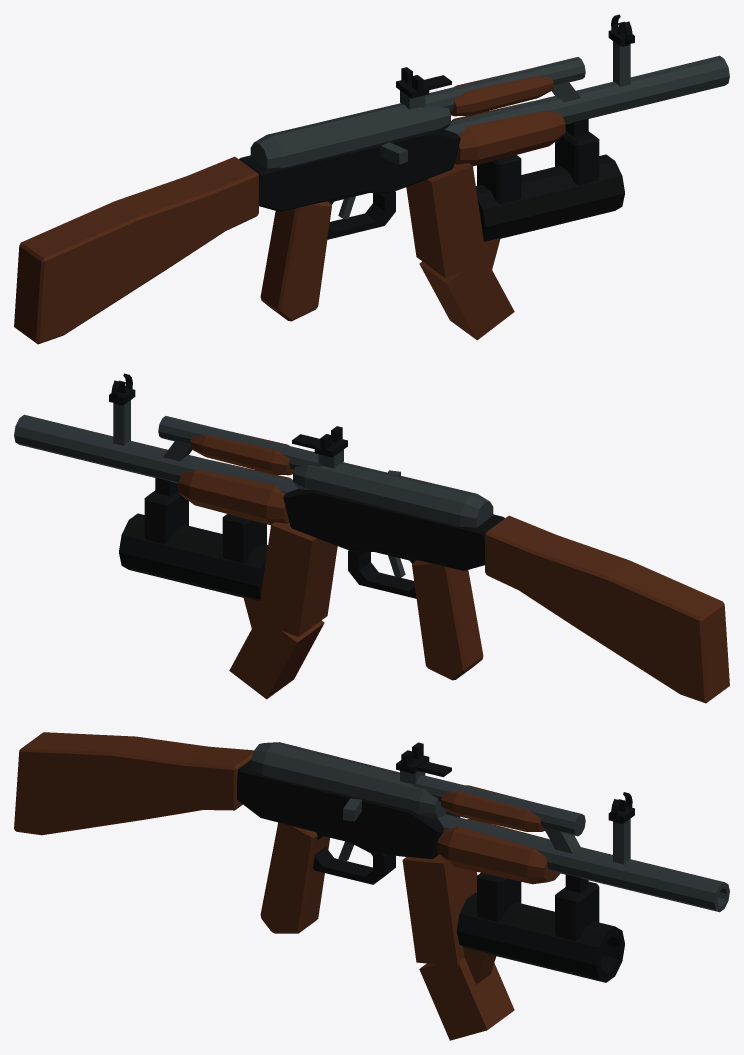
The model's file is CE_Gun_AK74GL.obj.
3 views of the same model, one above another, from view 1: azimuth 30°, elevation 25°; view 2: azimuth 150°, elevation 25°; view 3: azimuth 330°, elevation 25° (orthographic).
Visible parts, largest first — view 1: AK74_curved_wooden_shoulder_stock, AK_stepped_lower_receiver, GP25_launcher, Magazine_upper, Rounded_receiver_dust_cover, Hollow_barrel, AK_curved_palm_grip, Lower_shaped_handguard, Curved_magazine_heel, Upper_gas_handguard, Gas_tube, GP25_saddle.001 (+3 smaller); view 2: AK74_curved_wooden_shoulder_stock, AK_stepped_lower_receiver, GP25_launcher, Magazine_upper, Rounded_receiver_dust_cover, Hollow_barrel, AK_curved_palm_grip, Lower_shaped_handguard, Curved_magazine_heel, Upper_gas_handguard, Gas_tube, GP25_saddle.001 (+3 smaller); view 3: AK74_curved_wooden_shoulder_stock, AK_stepped_lower_receiver, GP25_launcher, Hollow_barrel, Rounded_receiver_dust_cover, Magazine_upper, AK_curved_palm_grip, Curved_magazine_heel, Lower_shaped_handguard, Gas_tube, Upper_gas_handguard, GP25_saddle.001 (+5 smaller).
Boxes of the visible parts, x1,y1,x2,y2 form: AK74_curved_wooden_shoulder_stock: [14, 156, 258, 344]; AK_stepped_lower_receiver: [239, 129, 460, 211]; GP25_launcher: [476, 154, 624, 241]; Magazine_upper: [406, 163, 486, 277]; Rounded_receiver_dust_cover: [250, 103, 450, 168]; Hollow_barrel: [444, 55, 729, 135]; AK_curved_palm_grip: [260, 201, 331, 321]; Lower_shaped_handguard: [451, 101, 565, 166]; Curved_magazine_heel: [419, 260, 514, 340]; Upper_gas_handguard: [450, 71, 553, 116]; Gas_tube: [422, 57, 585, 111]; GP25_saddle.001: [555, 131, 599, 185]; AK74_curved_wooden_shoulder_stock: [485, 515, 729, 703]; AK_stepped_lower_receiver: [283, 488, 504, 570]; GP25_launcher: [119, 513, 267, 600]; Magazine_upper: [257, 522, 337, 636]; Rounded_receiver_dust_cover: [293, 462, 493, 527]; Hollow_barrel: [14, 414, 299, 494]; AK_curved_palm_grip: [412, 560, 483, 680]; Lower_shaped_handguard: [178, 460, 292, 525]; Curved_magazine_heel: [229, 619, 324, 699]; Upper_gas_handguard: [190, 430, 293, 475]; Gas_tube: [158, 416, 321, 470]; GP25_saddle.001: [144, 490, 188, 544]; AK74_curved_wooden_shoulder_stock: [14, 732, 253, 835]; AK_stepped_lower_receiver: [237, 761, 460, 858]; GP25_launcher: [456, 892, 624, 982]; Hollow_barrel: [437, 814, 729, 912]; Rounded_receiver_dust_cover: [250, 742, 447, 817]; Magazine_upper: [402, 855, 477, 966]; AK_curved_palm_grip: [260, 822, 329, 933]; Curved_magazine_heel: [419, 957, 514, 1040]; Lower_shaped_handguard: [437, 819, 560, 884]; Gas_tube: [413, 775, 585, 836]; Upper_gas_handguard: [441, 785, 544, 831]; GP25_saddle.001: [555, 881, 599, 940].
Size of the model in its own units: 1.25 by 0.468 by 0.1323.
